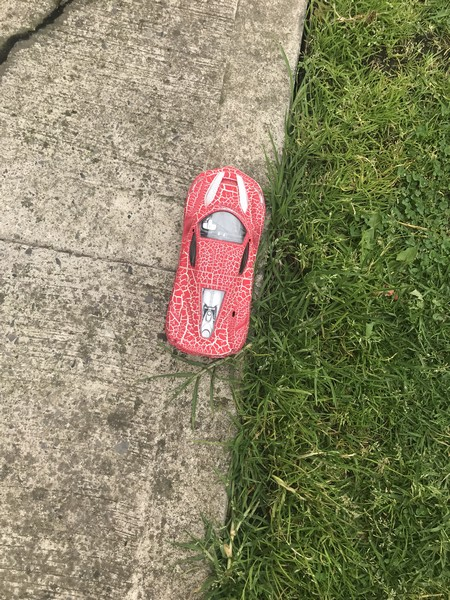RC: (165, 165, 268, 361)
